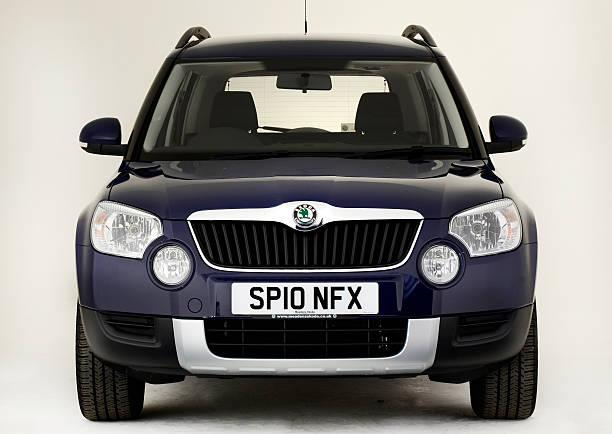skoda: (287, 199, 327, 229)
